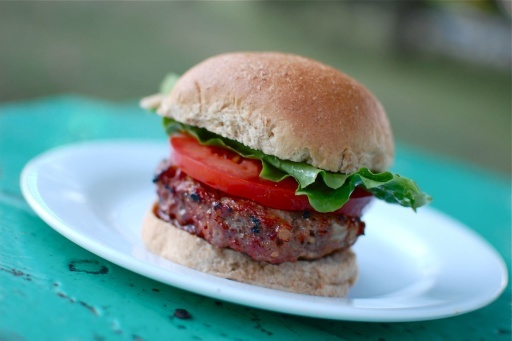background: (110, 26, 346, 159)
